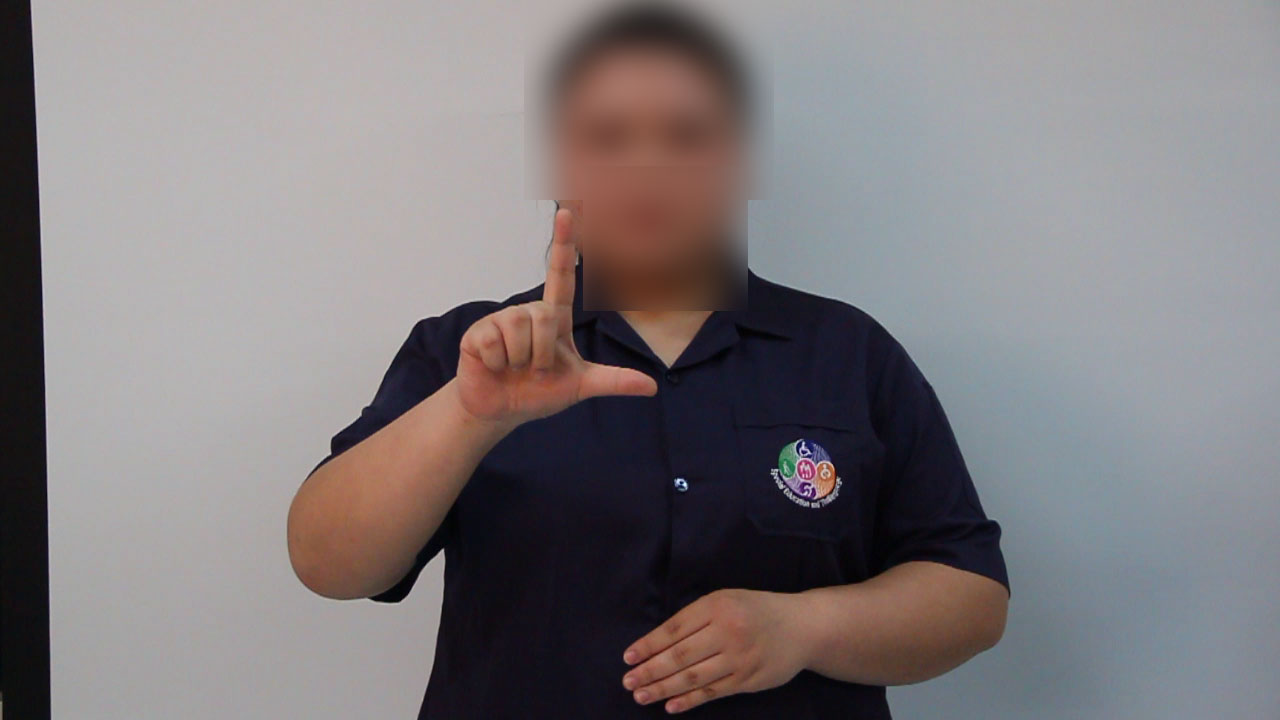lor: (442, 203, 685, 449)
